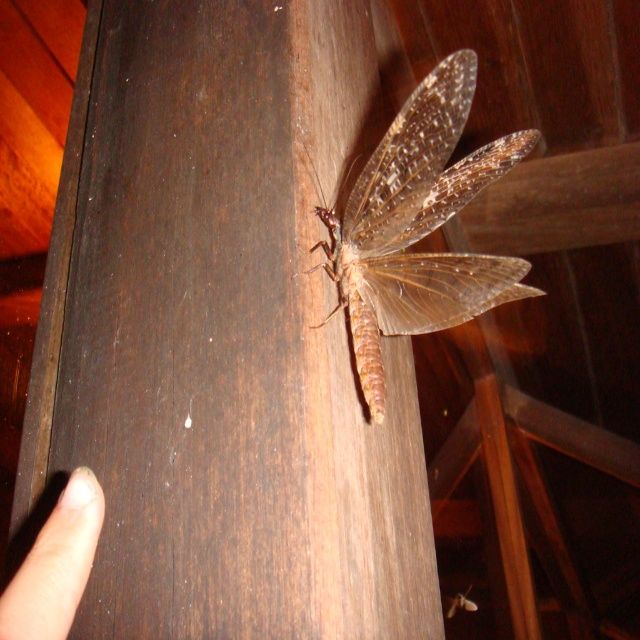Moths and butterflies: (297, 52, 553, 421), (445, 580, 482, 625)
